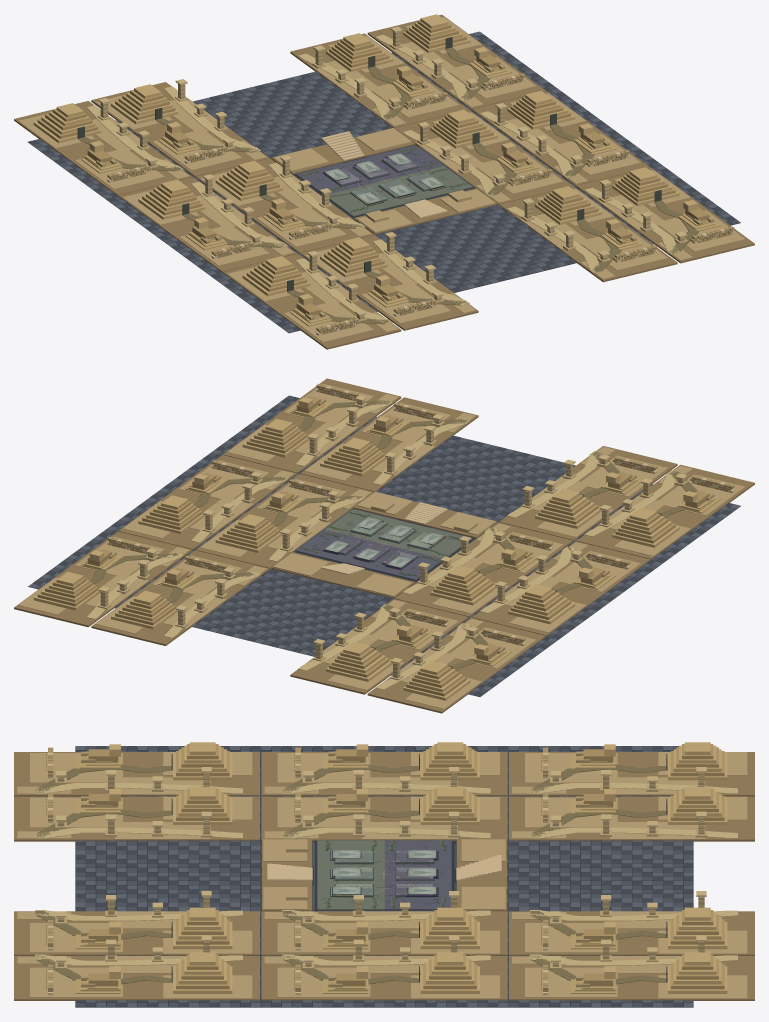
The model's file is relic.glb.
3 views of the same model, one above another, from view 1: azimuth 30°, elevation 25°; view 2: azimuth 150°, elevation 25°; view 3: azimuth 270°, elevation 25° (orthographic). The views are drawn at different scales.
Parts seen in each view (by area): view 1: 24_Continuous_Outer_Floor_rock2, 24_Continuous_Outer_Floor_rock3, 24_Continuous_Outer_Floor_rock, 24_Outer_Floor_Mortar, Decorated_Halves_With_Six_Grounded_Stone_Bases, Approach_Flanking_Terraces, Landscape_Terrain_Fields__West_1_0, Landscape_Terrain_Fields__West_1_-1, Landscape_Terrain_Fields__West_1_1, Landscape_Terrain_Fields__West_0_1, Landscape_Terrain_Fields__West_0_-1, Landscape_Terrain_Fields (+44 smaller); view 2: 24_Continuous_Outer_Floor_rock2, 24_Continuous_Outer_Floor_rock3, 24_Continuous_Outer_Floor_rock, 24_Outer_Floor_Mortar, Decorated_Halves_With_Six_Grounded_Stone_Bases, Approach_Flanking_Terraces, Landscape_Terrain_Base__West_1_-1, Landscape_Terrain_Base__East_0_-1, Landscape_Terrain_Base__East_1_-1, Landscape_Terrain_Base__West_1_1, Landscape_Terrain_Base__West_0_-1, Landscape_Terrain_Base__West_1_0 (+44 smaller); view 3: 24_Continuous_Outer_Floor_rock, 24_Continuous_Outer_Floor_rock3, 24_Continuous_Outer_Floor_rock2, 24_Outer_Floor_Mortar, Decorated_Halves_With_Six_Grounded_Stone_Bases, Approach_Flanking_Terraces, Landscape_Terrain_Fields__East_1_-1, Landscape_Terrain_Fields__East_1_1, Landscape_Terrain_Fields__East_1_0, Landscape_Terrain_Fields__West_0_-1, Landscape_Terrain_Fields__West_0_1, Landscape_Terrain_Fields (+58 smaller).
Part boxes in pixels (box(x1,y1,x2,y2)): 24_Continuous_Outer_Floor_rock2: box(32, 33, 740, 329); 24_Continuous_Outer_Floor_rock3: box(36, 31, 731, 332); 24_Continuous_Outer_Floor_rock: box(28, 34, 735, 330); 24_Outer_Floor_Mortar: box(28, 34, 740, 333); Decorated_Halves_With_Six_Grounded_Stone_Bases: box(296, 145, 472, 216); Approach_Flanking_Terraces: box(273, 128, 495, 232); Landscape_Terrain_Fields__West_1_0: box(123, 190, 293, 265); Landscape_Terrain_Fields__West_1_-1: box(18, 113, 189, 189); Landscape_Terrain_Fields__West_1_1: box(227, 266, 398, 342); Landscape_Terrain_Fields__West_0_1: box(305, 247, 475, 323); Landscape_Terrain_Fields__West_0_-1: box(96, 94, 266, 170); Landscape_Terrain_Fields: box(200, 171, 371, 246); 24_Continuous_Outer_Floor_rock2: box(36, 395, 736, 694); 24_Continuous_Outer_Floor_rock3: box(28, 400, 740, 691); 24_Continuous_Outer_Floor_rock: box(33, 397, 732, 696); 24_Outer_Floor_Mortar: box(28, 397, 740, 696); Decorated_Halves_With_Six_Grounded_Stone_Bases: box(296, 509, 472, 580); Approach_Flanking_Terraces: box(273, 491, 495, 596); Landscape_Terrain_Base__West_1_-1: box(367, 617, 545, 713); Landscape_Terrain_Base__East_0_-1: box(91, 550, 269, 645); Landscape_Terrain_Base__East_1_-1: box(14, 531, 192, 627); Landscape_Terrain_Base__West_1_1: box(577, 464, 754, 559); Landscape_Terrain_Base__West_0_-1: box(290, 599, 468, 694); Landscape_Terrain_Base__West_1_0: box(472, 541, 650, 636); 24_Continuous_Outer_Floor_rock: box(75, 746, 693, 1006); 24_Continuous_Outer_Floor_rock3: box(75, 746, 693, 1006); 24_Continuous_Outer_Floor_rock2: box(75, 746, 693, 1006); 24_Outer_Floor_Mortar: box(75, 746, 693, 1007); Decorated_Halves_With_Six_Grounded_Stone_Bases: box(317, 840, 451, 909); Approach_Flanking_Terraces: box(263, 839, 505, 909); Landscape_Terrain_Fields__East_1_-1: box(512, 956, 747, 998); Landscape_Terrain_Fields__East_1_1: box(17, 956, 252, 998); Landscape_Terrain_Fields__East_1_0: box(264, 956, 499, 998); Landscape_Terrain_Fields__West_0_-1: box(512, 796, 747, 839); Landscape_Terrain_Fields__West_0_1: box(17, 796, 252, 839); Landscape_Terrain_Fields: box(264, 796, 499, 839).
Bounding box in the file's own units: 48 × 2.46 × 57.5.
Materials: 31 (1 with a texture image).
